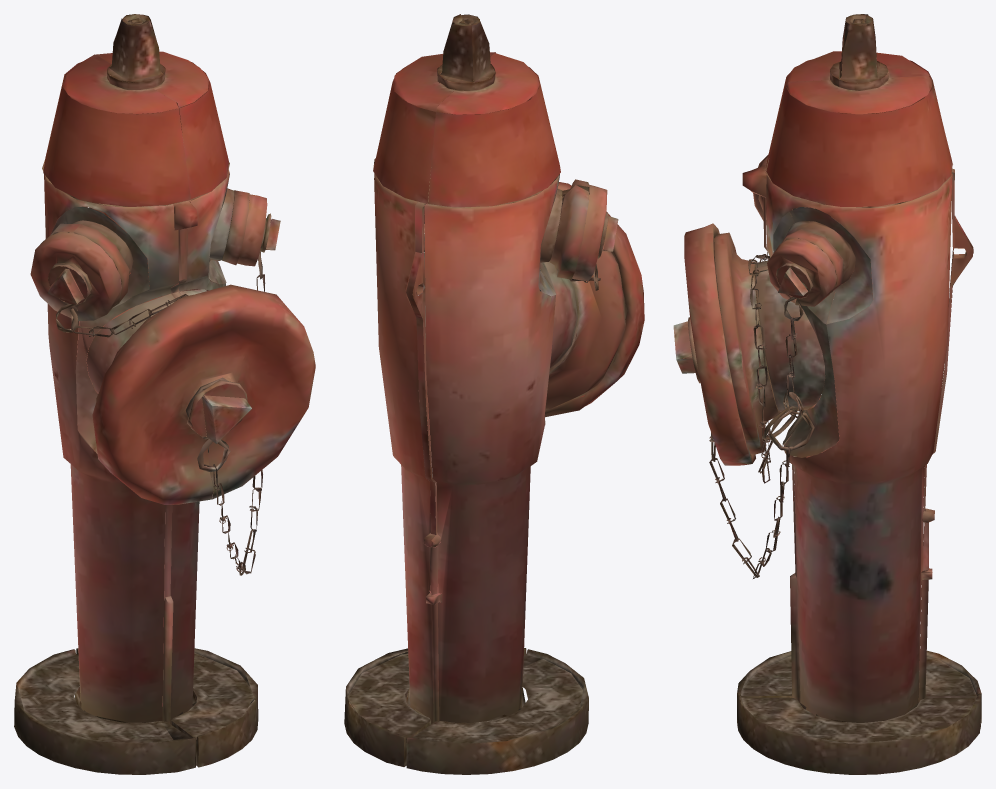
File: fire_hydrant.glb
3 views of the same model, side by side, from view 1: azimuth 30°, elevation 25°; view 2: azimuth 150°, elevation 25°; view 3: azimuth 270°, elevation 25° (orthographic).
Visible parts, largest first — view 1: fire_hydrant; view 2: fire_hydrant; view 3: fire_hydrant.
Part boxes in pixels (x1,y1,x2,y2): fire_hydrant: [14, 14, 315, 774]; fire_hydrant: [344, 14, 644, 774]; fire_hydrant: [673, 14, 981, 774].
Size of the model in its own units: 0.2742 by 0.8003 by 0.3172.
Materials: 1 (1 with a texture image).
